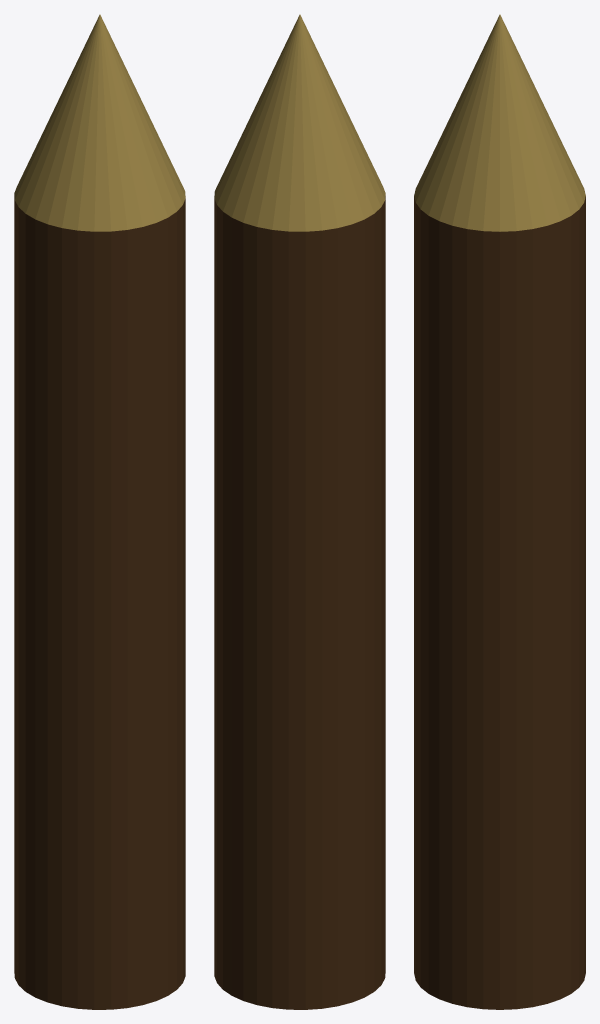
Rendered from stake.glb.
The picture shows the model from 3 angles, left to right: view 1: azimuth 30°, elevation 25°; view 2: azimuth 150°, elevation 25°; view 3: azimuth 270°, elevation 25°; orthographic projection.
Parts seen in each view (by area): view 1: Cylinder; view 2: Cylinder; view 3: Cylinder.
Boxes of the visible parts, x1=… form: Cylinder: x1=14, y1=14, x2=185, y2=1009; Cylinder: x1=214, y1=14, x2=385, y2=1009; Cylinder: x1=414, y1=14, x2=585, y2=1009.
Size of the model in its own units: 0.6 by 3.7 by 0.6.
